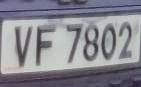0: (101, 18, 119, 68)
2: (117, 19, 135, 65)
7: (62, 21, 84, 70)
8: (82, 19, 101, 69)
F: (34, 22, 58, 70)
V: (12, 22, 34, 71)
